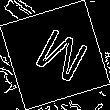M_SW: (23, 22, 87, 88)
